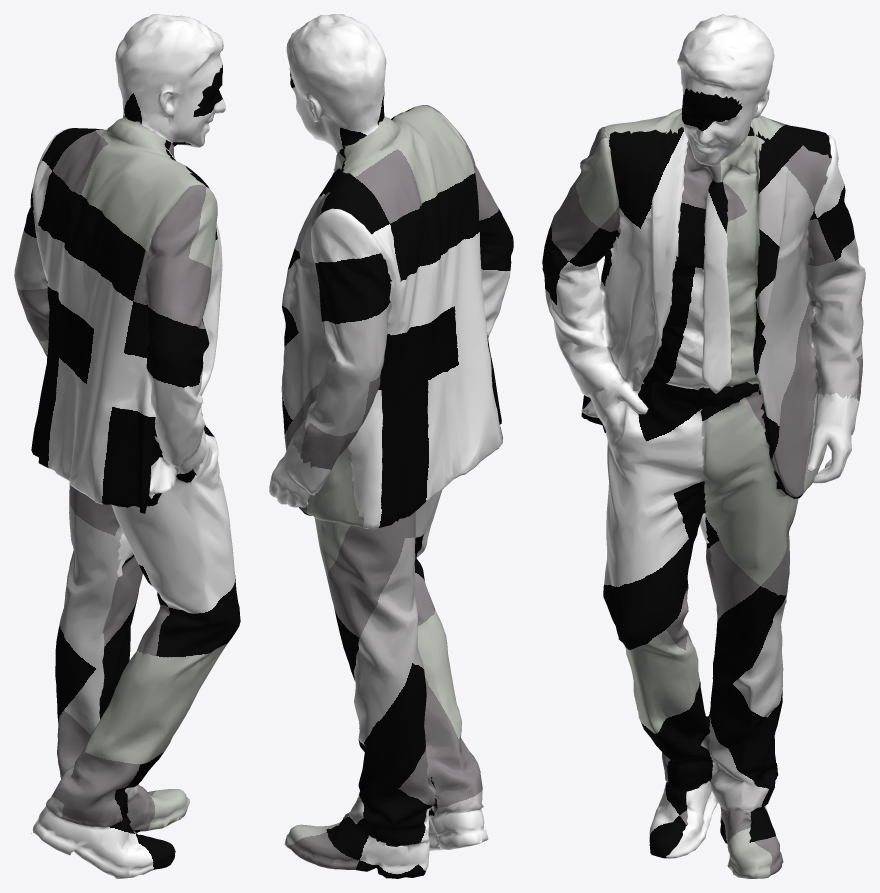
Rendered from dennis_posed.obj.
3 views of the same model, side by side, from view 1: azimuth 30°, elevation 25°; view 2: azimuth 150°, elevation 25°; view 3: azimuth 270°, elevation 25° (orthographic). The views are drawn at different scales.
Visible parts, largest first — view 1: rp_dennis_posed_004_30k; view 2: rp_dennis_posed_004_30k; view 3: rp_dennis_posed_004_30k.
Boxes of the visible parts, bbox=[...] form: rp_dennis_posed_004_30k: bbox=[14, 14, 240, 878]; rp_dennis_posed_004_30k: bbox=[269, 14, 513, 878]; rp_dennis_posed_004_30k: bbox=[542, 14, 865, 878].
Size of the model in its own units: 0.6624 by 2.7 by 0.9268.
